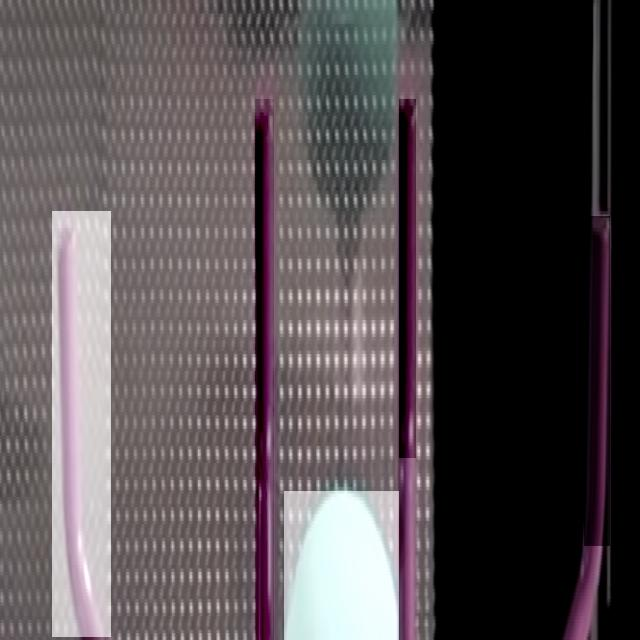Algae: (284, 491, 399, 640)
Reef: (52, 211, 111, 637), (255, 99, 274, 640), (584, 216, 610, 546), (399, 99, 416, 458)
